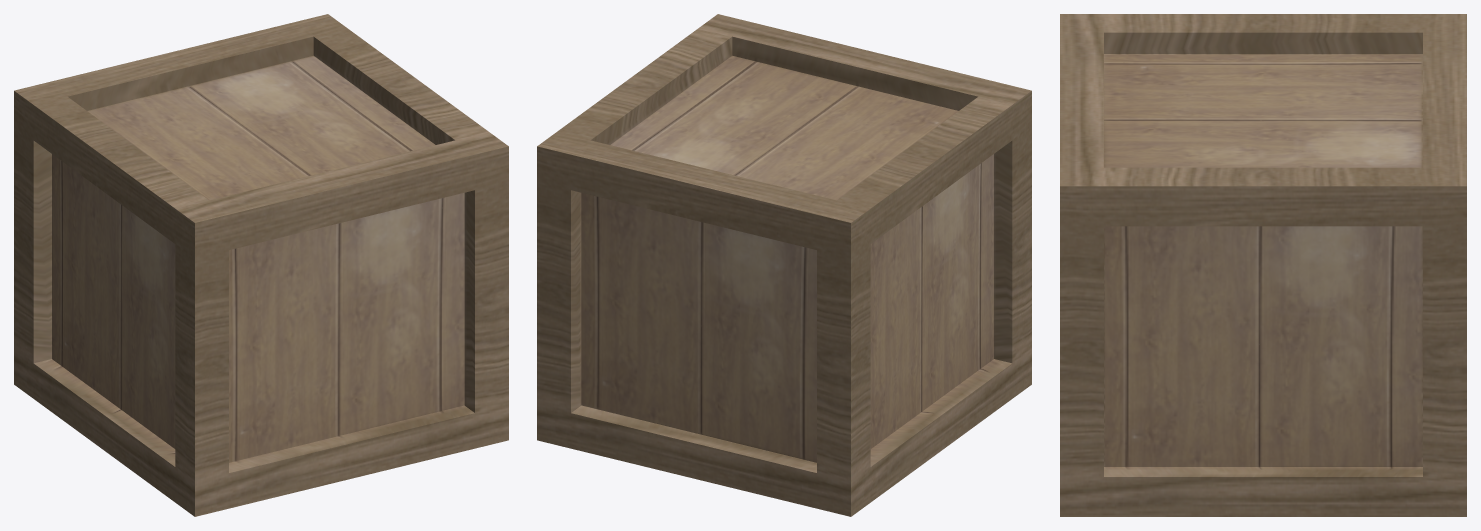
Rendered from Crate.FBX.
The picture shows the model from 3 angles, left to right: view 1: azimuth 30°, elevation 25°; view 2: azimuth 150°, elevation 25°; view 3: azimuth 270°, elevation 25°; orthographic projection. The views are drawn at different scales.
Visible parts, largest first — view 1: Crate; view 2: Crate; view 3: Crate.
Boxes of the visible parts, x1,y1,x2,y2 form: Crate: (14,14,508,516); Crate: (537,14,1031,516); Crate: (1060,14,1466,516).
Bounding box in the file's own units: 19.93 × 17.83 × 19.88.
